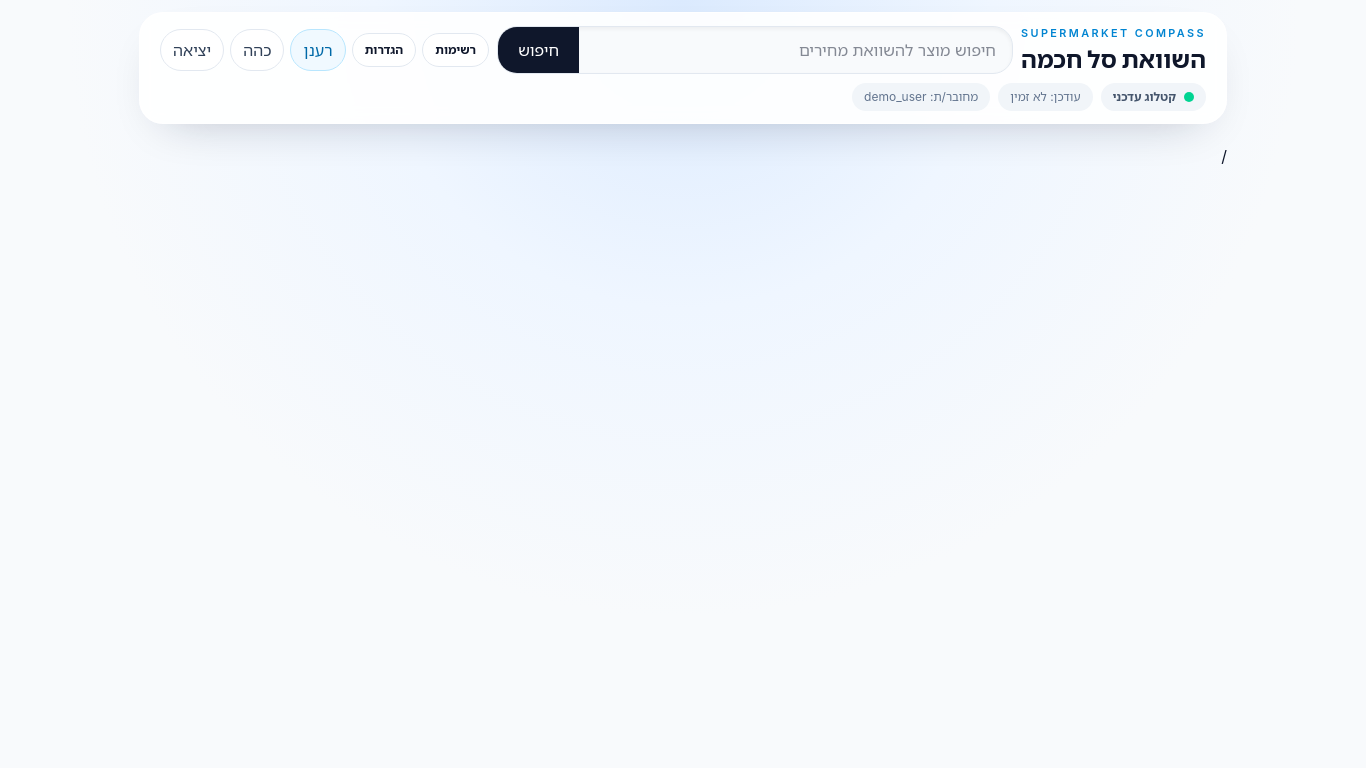
Scenario: AppShell › cancels catalog refresh confirmation without starting refresh
Click the button named "רענן קטלוג": (318, 50) [290,29,346,71]
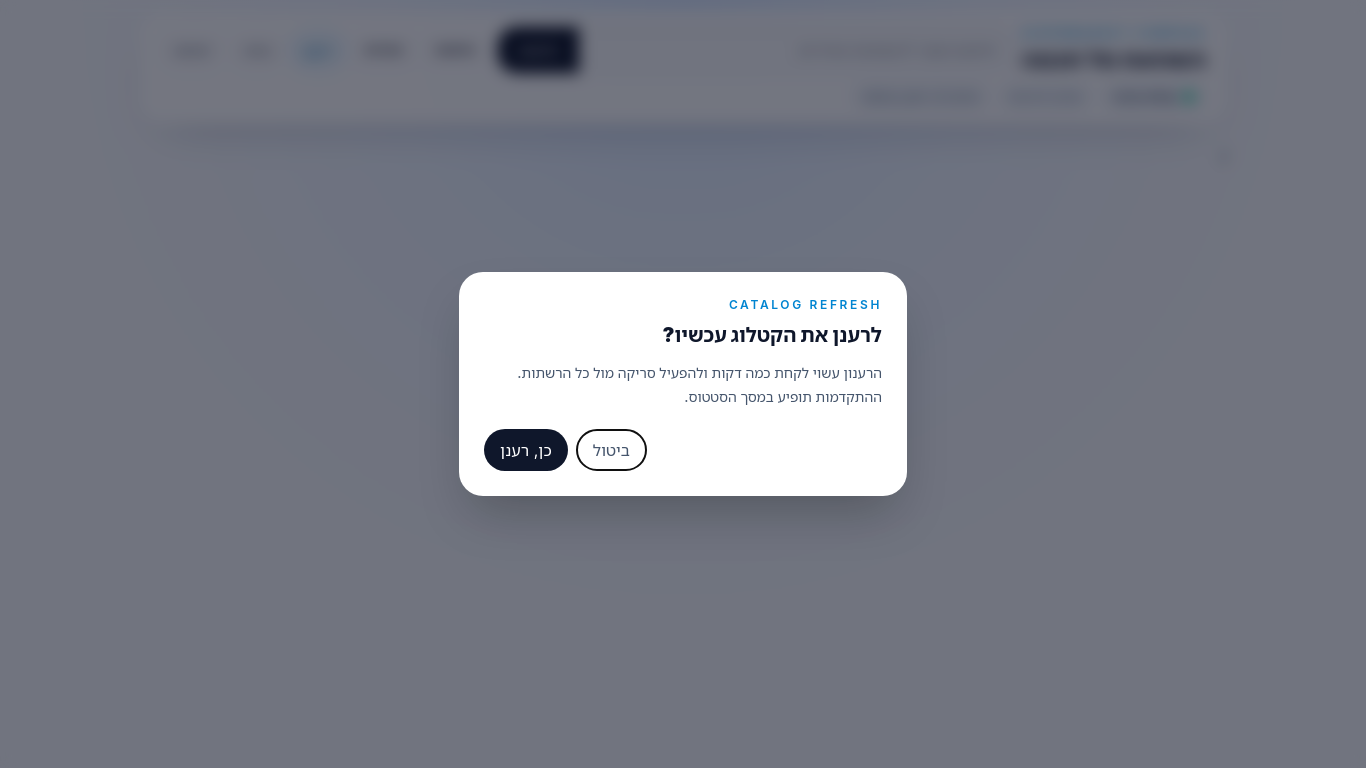
Click the button "ביטול": (611, 450) [576,429,647,471]
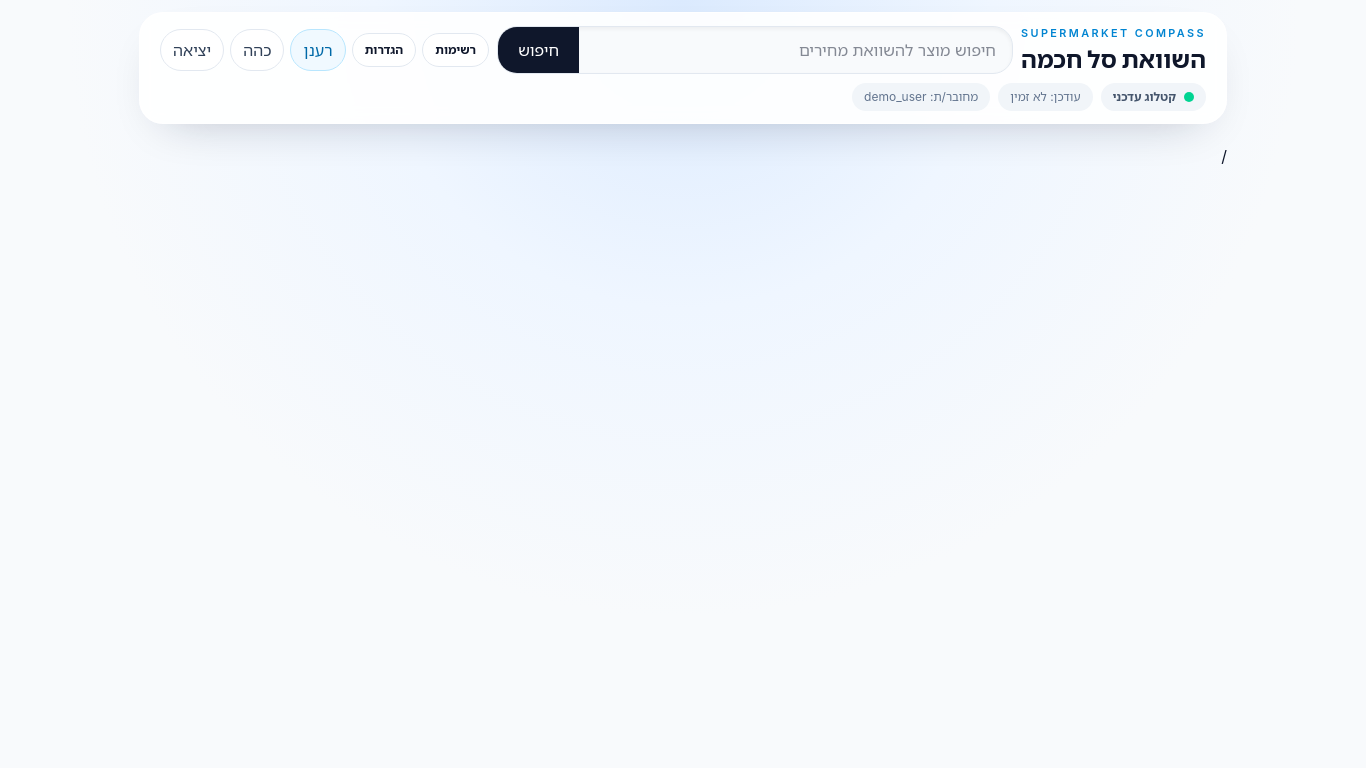
Result: the heading "לרענן את הקטלוג עכשיו?" is gone
